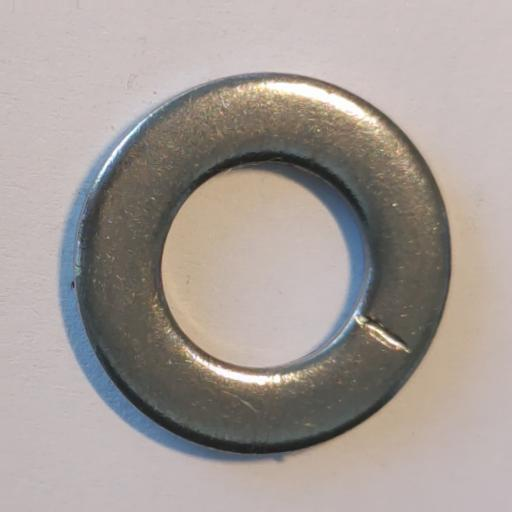scratch: (352, 313, 413, 356)
